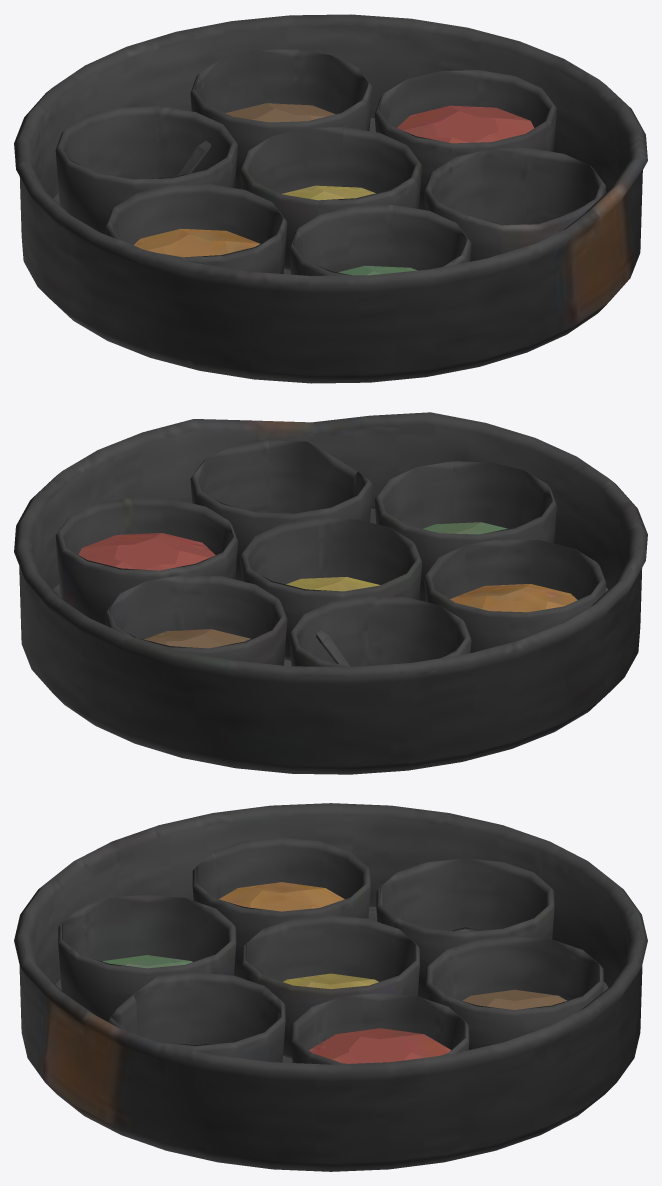
File: K16_masala_dabba.glb
3 views of the same model, one above another, from view 1: azimuth 30°, elevation 25°; view 2: azimuth 150°, elevation 25°; view 3: azimuth 270°, elevation 25° (orthographic).
Parts seen in each view (by area): view 1: Masala dabba; view 2: Masala dabba; view 3: Masala dabba.
Boxes of the visible parts, <box> form: Masala dabba: <box>14,14,647,383</box>; Masala dabba: <box>14,412,647,774</box>; Masala dabba: <box>14,803,647,1171</box>.
Bounding box in the file's own units: 0.25 × 0.051 × 0.25.
7 materials, 7 textured.
